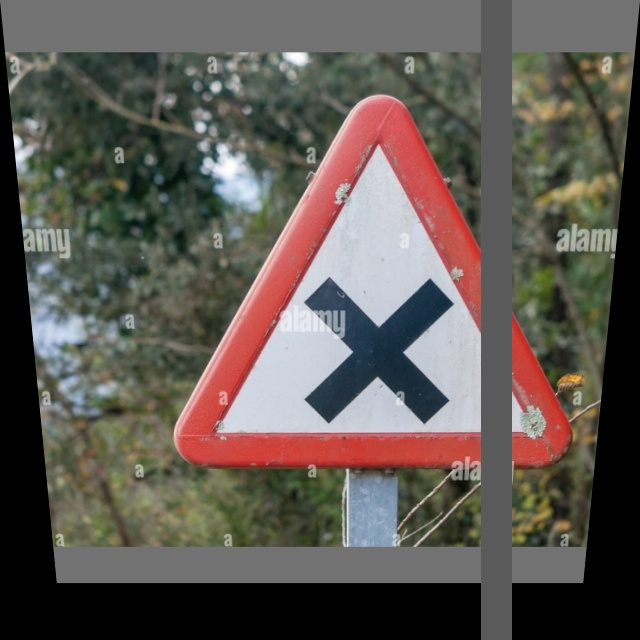Cross_Road: (164, 94, 599, 466)
